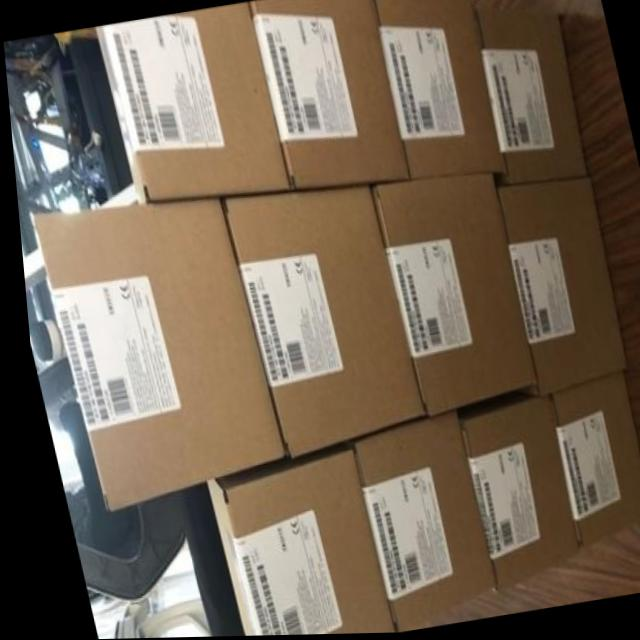box: (26, 198, 281, 512), (220, 183, 418, 455), (367, 176, 531, 416), (95, 3, 287, 199), (199, 442, 384, 637), (337, 409, 487, 631), (251, 0, 409, 190), (497, 177, 622, 399), (445, 391, 572, 594), (375, 0, 506, 178), (475, 8, 584, 189), (541, 372, 640, 550)
